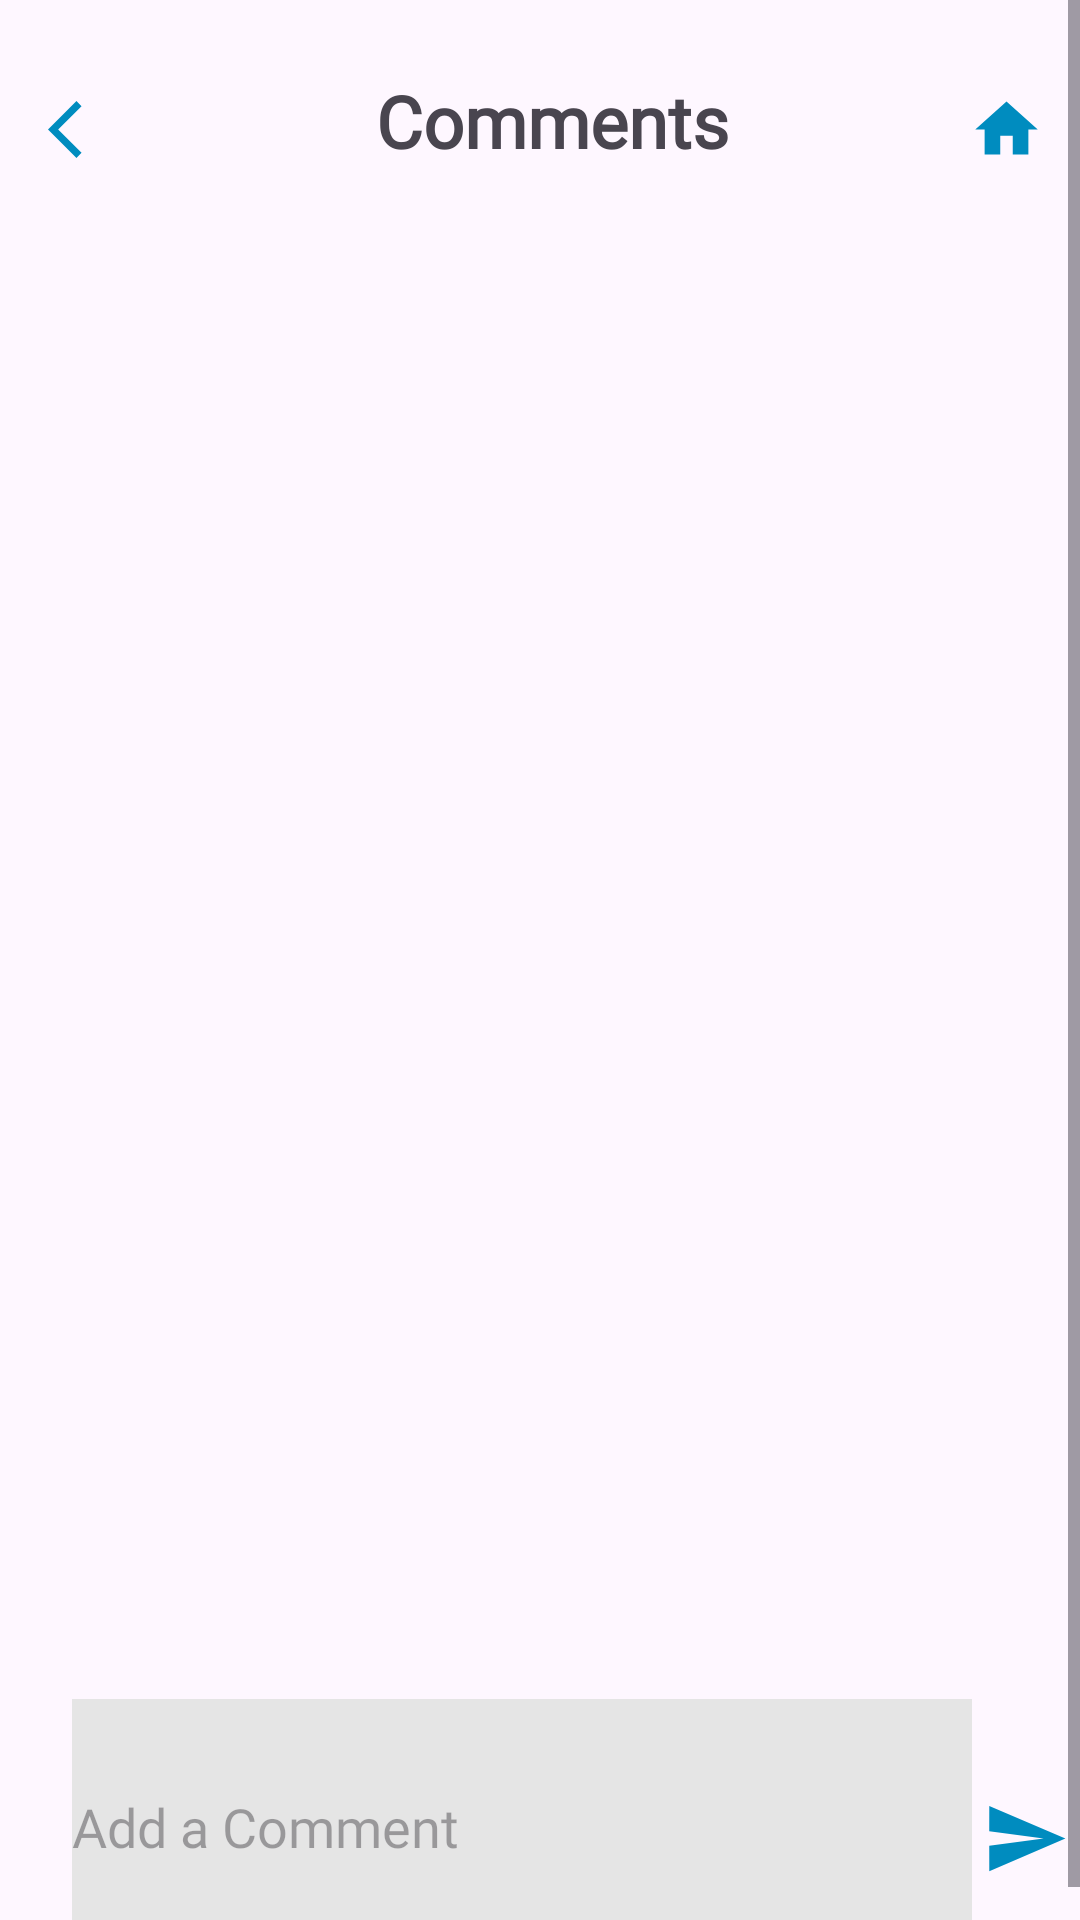

Icons on this 1080 x 1920 Android screen, each with its box as (x1, y1, x2, y2):
backarrow: (48, 101, 82, 158)
home: (975, 101, 1038, 155)
send: (989, 1806, 1065, 1871)
